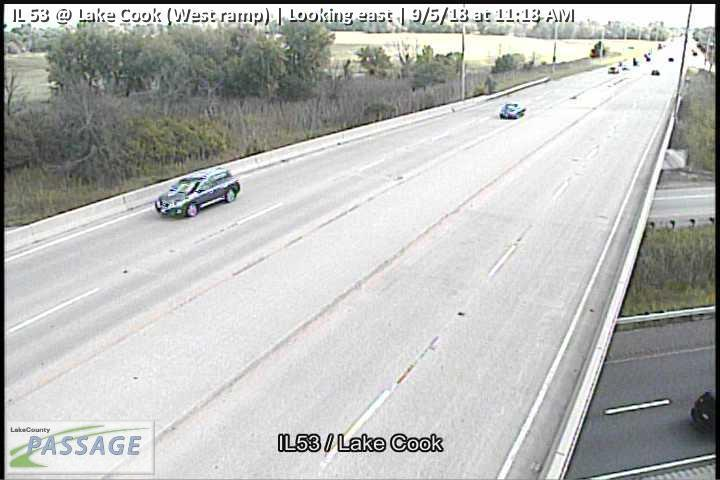SUV: (153, 167, 241, 216)
Sedan: (499, 103, 527, 119)
